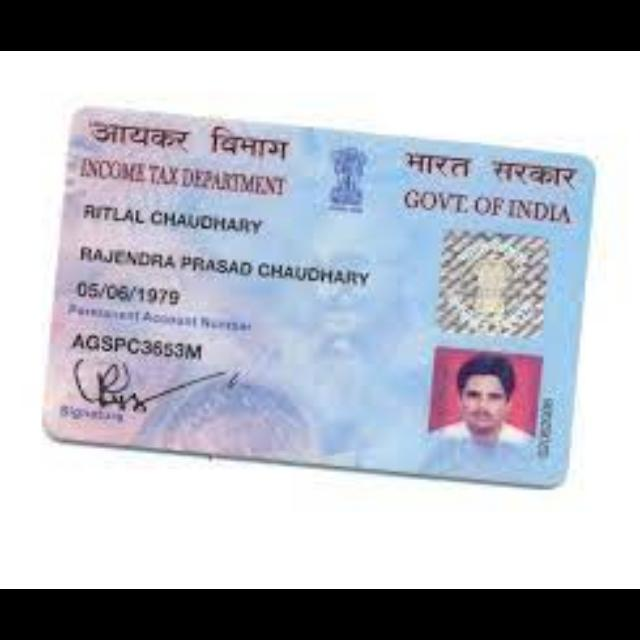pan: (34, 89, 600, 503)
